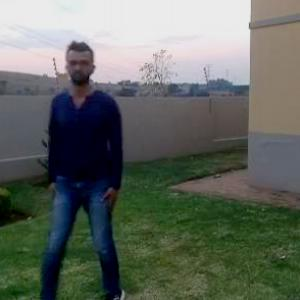follow: (50, 36, 128, 299)
